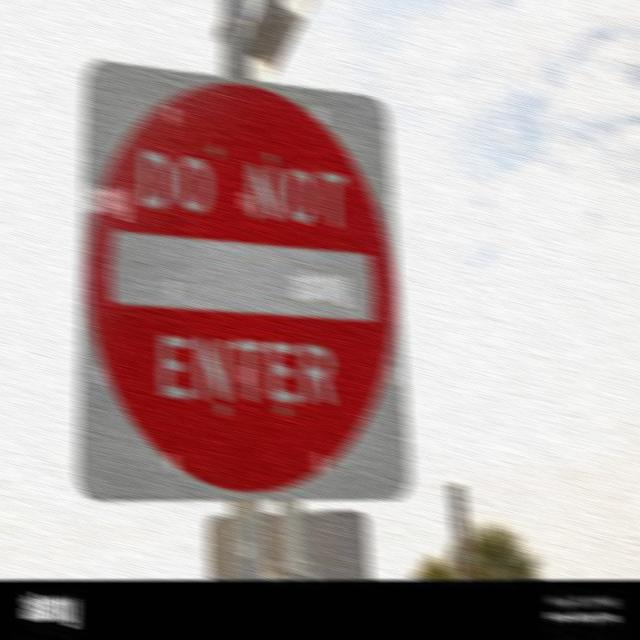doNotEnter: (82, 63, 414, 498)
